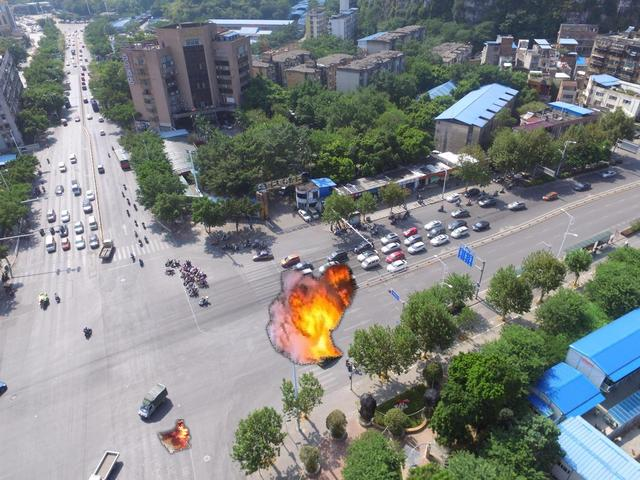fire: (264, 259, 357, 368), (158, 420, 190, 452)
